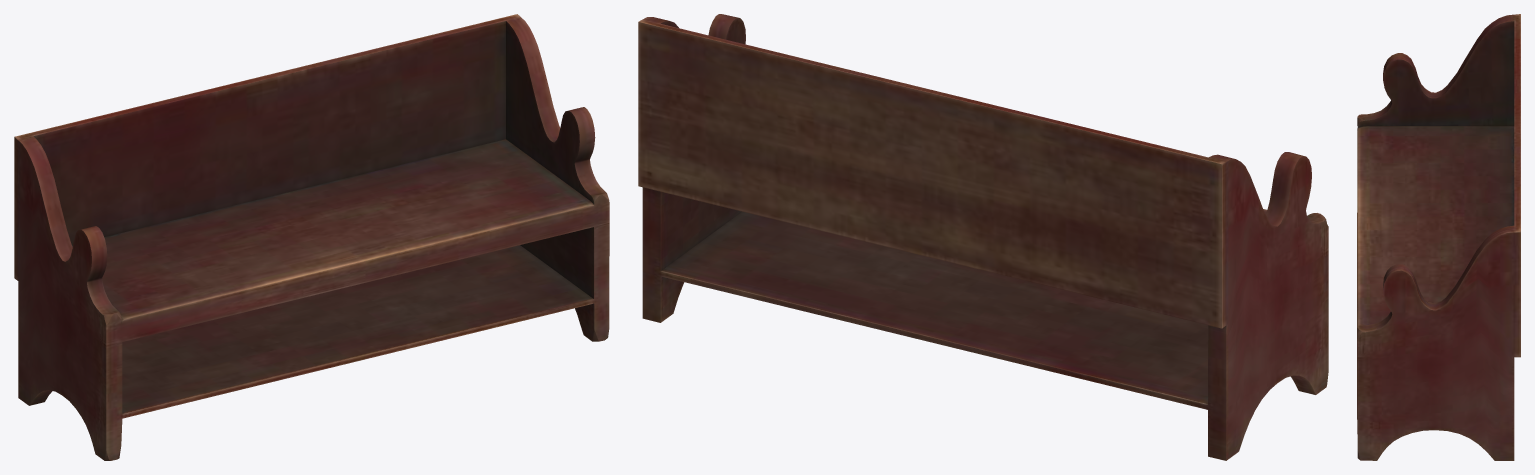
File: ph_wooden_bench.glb
The picture shows the model from 3 angles, left to right: view 1: azimuth 30°, elevation 25°; view 2: azimuth 150°, elevation 25°; view 3: azimuth 270°, elevation 25°; orthographic projection. The views are drawn at different scales.
Parts seen in each view (by area): view 1: PH_WoodenBench; view 2: PH_WoodenBench; view 3: PH_WoodenBench.
Boxes of the visible parts, x1=… form: PH_WoodenBench: x1=14, y1=14, x2=609, y2=460; PH_WoodenBench: x1=638, y1=14, x2=1328, y2=460; PH_WoodenBench: x1=1357, y1=14, x2=1520, y2=460.
Size of the model in its own units: 1.7 by 0.8343 by 0.54.
1 material, 1 textured.
